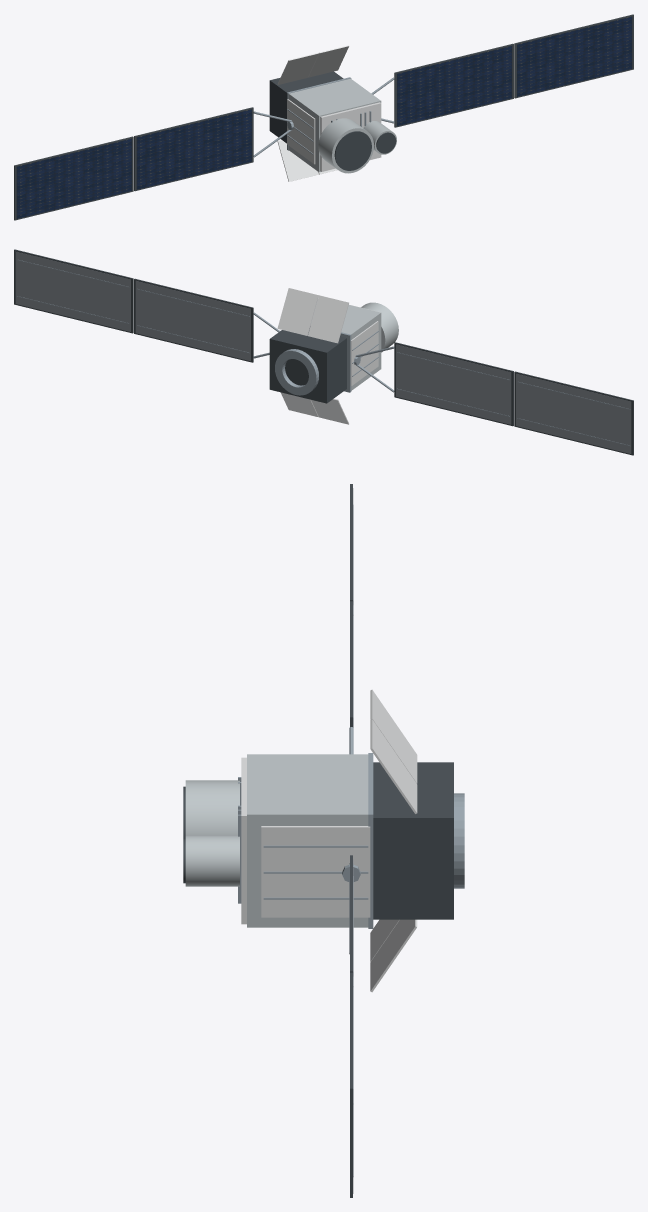
File: a2100-sbirs.glb
3 renders of one model, top to bottom at view 1: azimuth 30°, elevation 25°; view 2: azimuth 150°, elevation 25°; view 3: azimuth 270°, elevation 25°, orthographic. The views are drawn at different scales.
Visible parts, largest first — view 1: Solar cell panel (×4), Solar panel frame (×4), Payload module, Deployed radiator leaf (×3), Optical instrument housing (×2), Telescope aperture (×2), Service module, Radiator face, Earth-facing deck; view 2: Rear array substrate (×4), Deployed radiator leaf (×4), Service module, Solar panel frame (×4), Radiator face, Payload module, Launch adapter ring, Optical instrument housing; view 3: Service module, Payload module, Radiator face, Optical instrument housing (×2), Deployed radiator leaf (×3), Launch adapter ring, Earth-facing deck.
Part boxes in pixels (bbox=[...]): Solar cell panel (×4): bbox=[16, 16, 632, 218]; Solar panel frame (×4): bbox=[14, 14, 633, 220]; Payload module: bbox=[288, 78, 381, 172]; Deployed radiator leaf (×3): bbox=[277, 45, 348, 181]; Optical instrument housing (×2): bbox=[318, 118, 396, 173]; Telescope aperture (×2): bbox=[334, 131, 396, 170]; Service module: bbox=[269, 71, 343, 143]; Radiator face: bbox=[287, 99, 315, 164]; Earth-facing deck: bbox=[320, 102, 381, 171]; Rear array substrate (×4): bbox=[15, 251, 631, 453]; Deployed radiator leaf (×4): bbox=[277, 288, 348, 424]; Service module: bbox=[269, 330, 346, 403]; Solar panel frame (×4): bbox=[14, 249, 633, 455]; Radiator face: bbox=[350, 321, 378, 386]; Payload module: bbox=[311, 299, 381, 390]; Launch adapter ring: bbox=[275, 349, 318, 395]; Optical instrument housing: bbox=[361, 302, 398, 352]; Service module: bbox=[373, 762, 453, 919]; Payload module: bbox=[247, 754, 368, 927]; Radiator face: bbox=[261, 826, 370, 917]; Optical instrument housing (×2): bbox=[185, 780, 239, 886]; Deployed radiator leaf (×3): bbox=[370, 689, 417, 992]; Launch adapter ring: bbox=[454, 793, 464, 888]; Earth-facing deck: bbox=[241, 757, 246, 924].
Bounding box in the file's own units: 24.95 × 4.7 × 4.91.
Materials: 6 (1 with a texture image).
